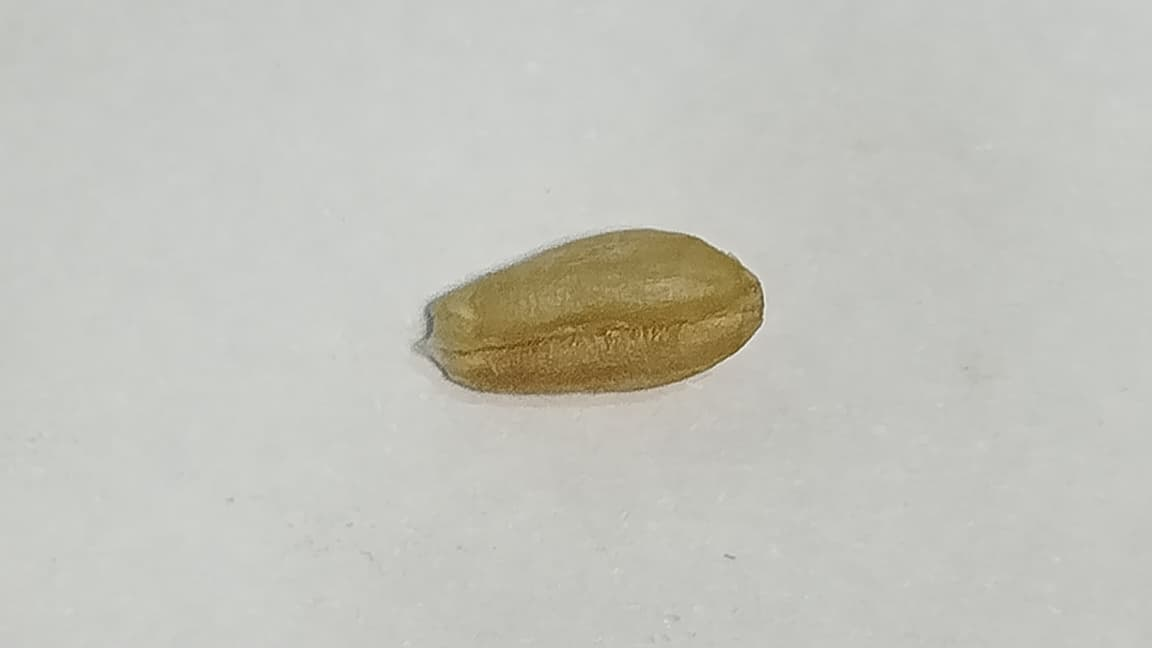healthy: (423, 228, 764, 394)
